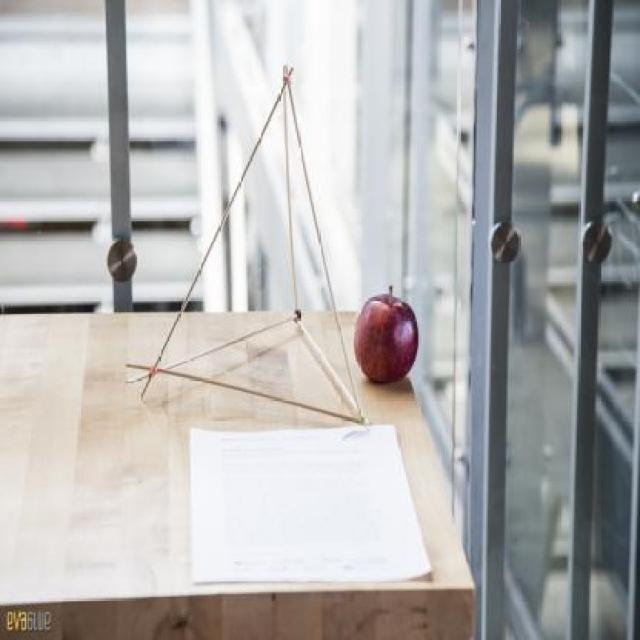Apple pie: (355, 284, 423, 386)
